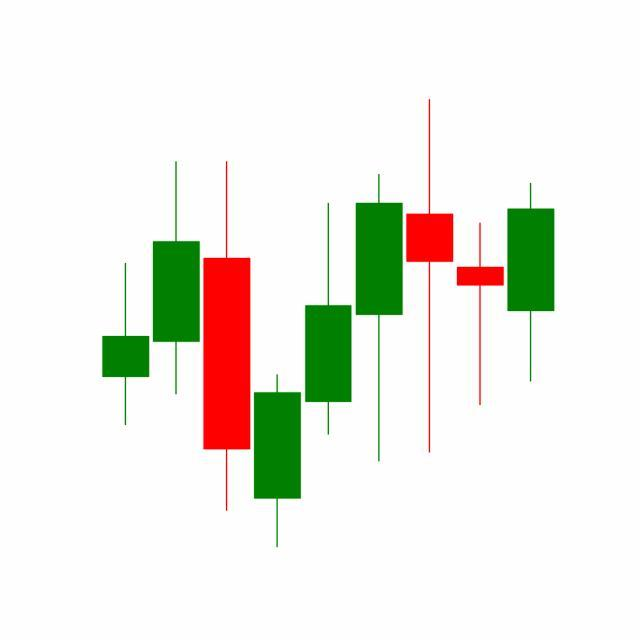Hikkake Pattern: (302, 99, 555, 467)
